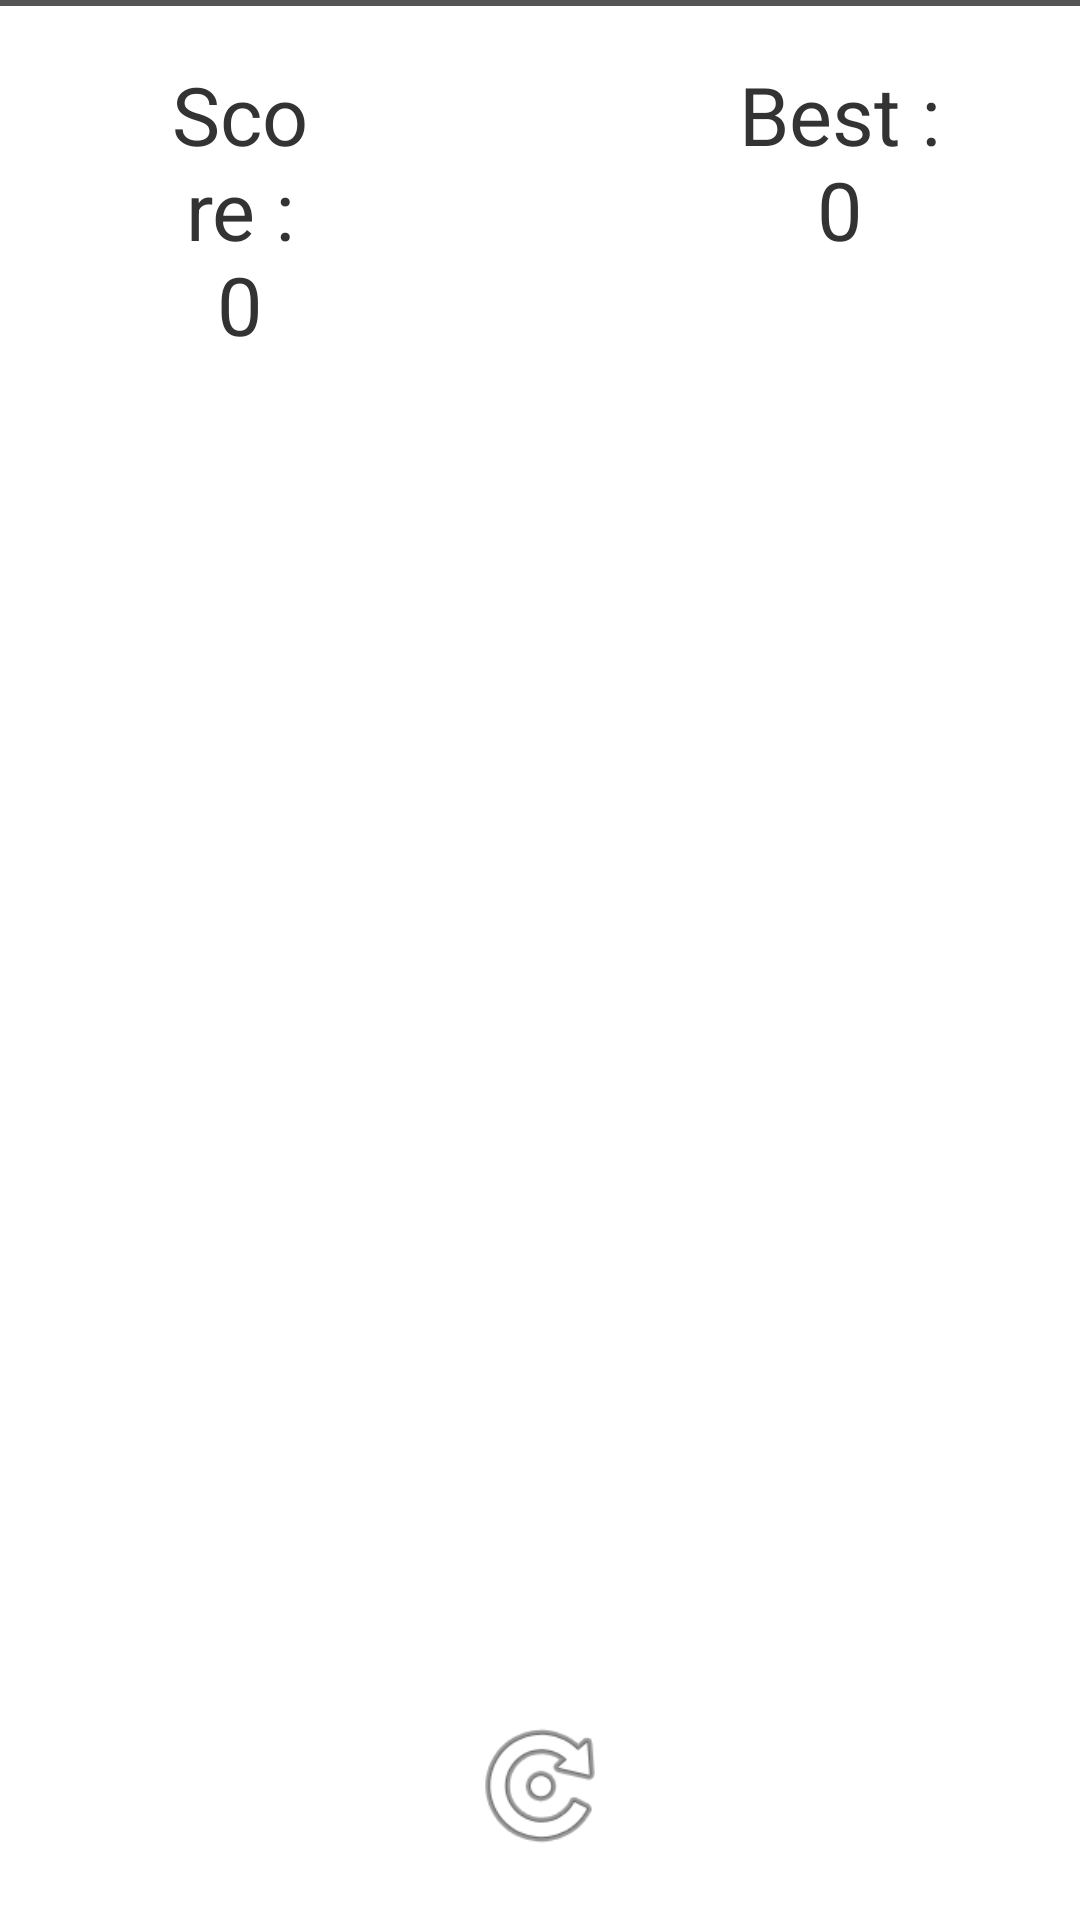

Icon bounding boxes for this 1080x1920 phone screenshot, format (x1, y1, x2, y2):
rotate: (485, 1730, 595, 1842)
